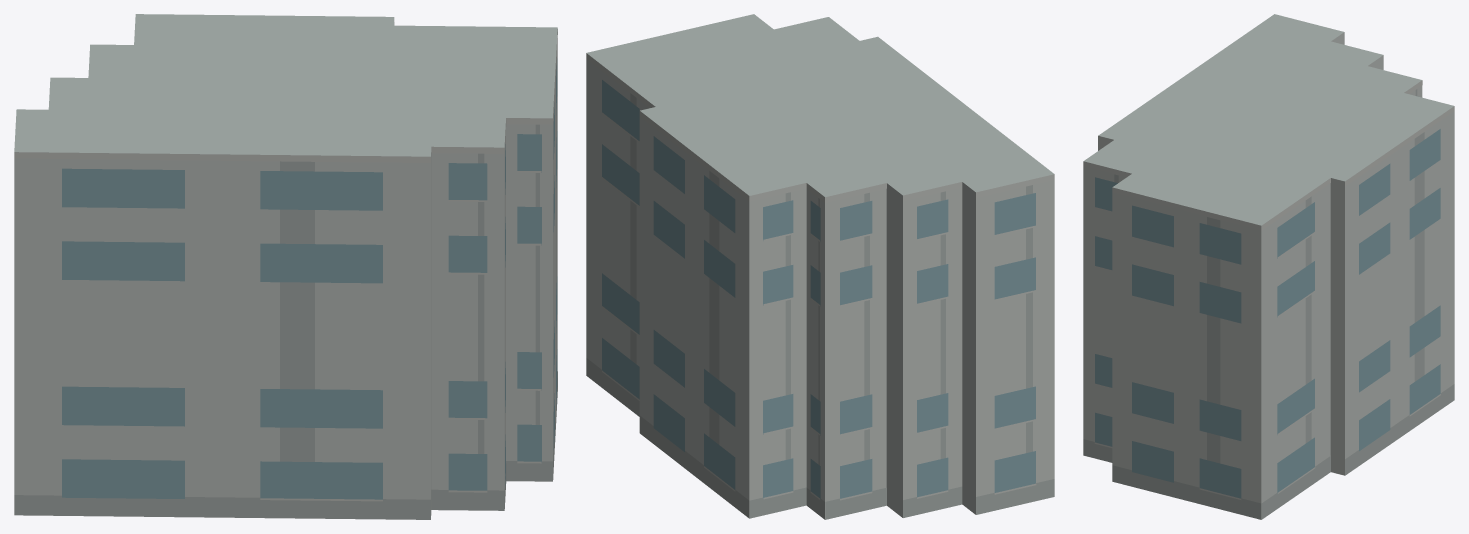
File: survey-upis-32626957.glb
The picture shows the model from 3 angles, left to right: view 1: azimuth 30°, elevation 25°; view 2: azimuth 150°, elevation 25°; view 3: azimuth 270°, elevation 25°; orthographic projection. The views are drawn at different scales.
Visible parts, largest first — view 1: survey-upis-32626957.tmp; view 2: survey-upis-32626957.tmp; view 3: survey-upis-32626957.tmp.
Boxes of the visible parts, x1,y1,x2,y2 form: survey-upis-32626957.tmp: (14, 14, 557, 519); survey-upis-32626957.tmp: (586, 14, 1054, 519); survey-upis-32626957.tmp: (1083, 14, 1454, 519).
Size of the model in its own units: 21.14 by 13.7 by 15.67.
